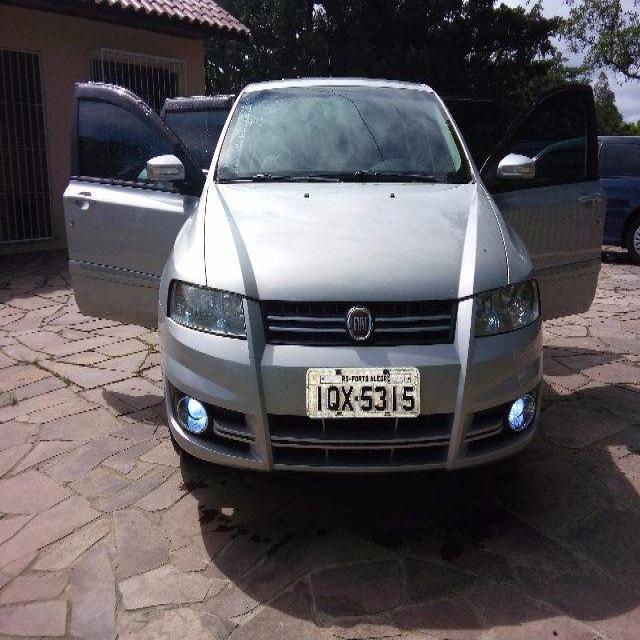Placa: (303, 365, 422, 420)
